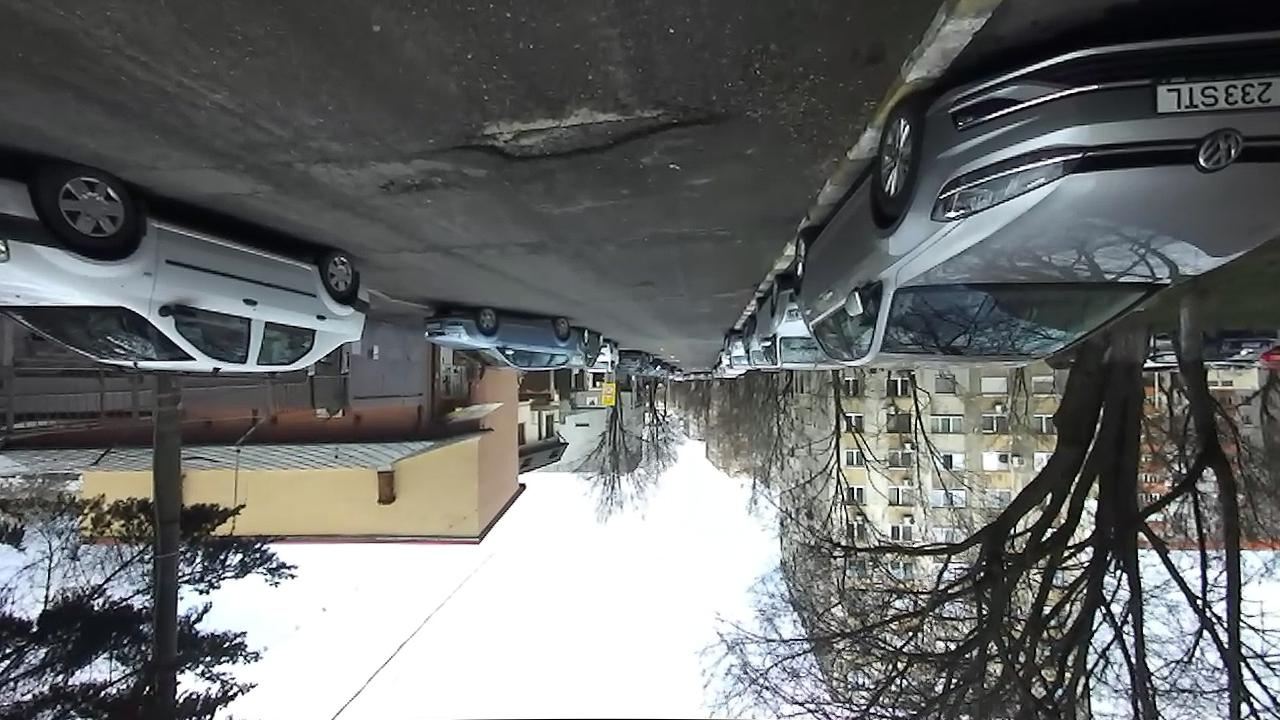pothole: (451, 89, 730, 166), (374, 168, 475, 200)
